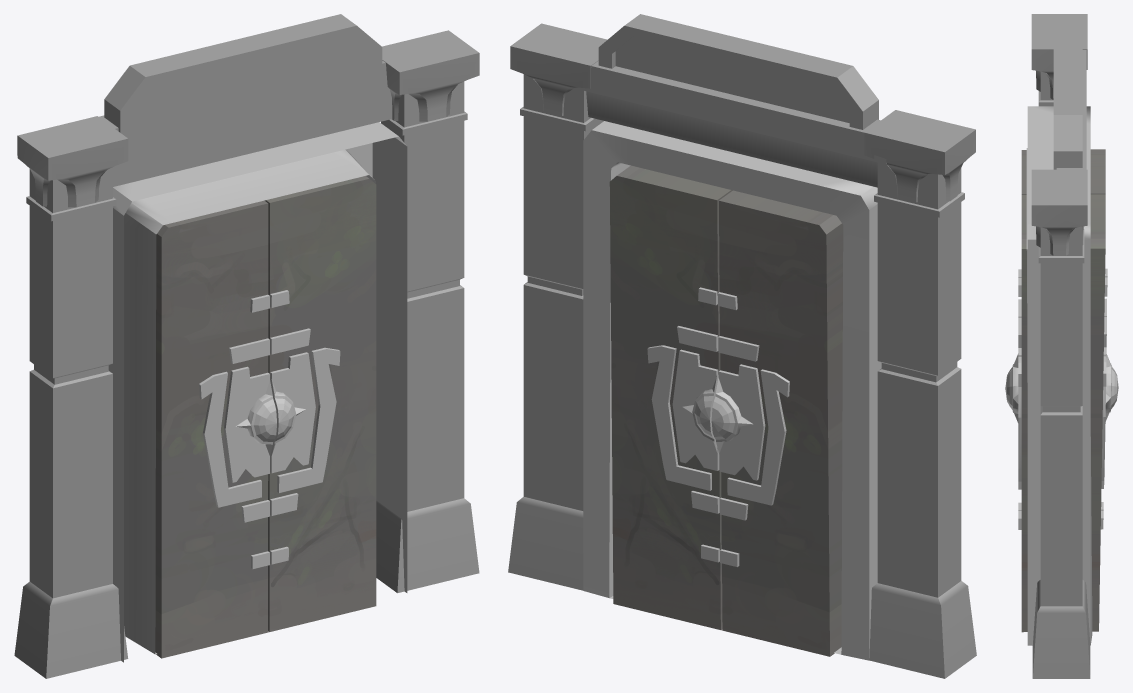
Rendered from G_DoorwayTemp_Door_01.fbx.
3 renders of one model, left to right at view 1: azimuth 30°, elevation 25°; view 2: azimuth 150°, elevation 25°; view 3: azimuth 270°, elevation 25°, orthographic. The views are drawn at different scales.
Parts seen in each view (by area): view 1: SM_DoorwayTemp_PillarOutside_01, SM_DoorwayTemp_Door_01, SM_DoorwayTemp_Frame_01; view 2: SM_DoorwayTemp_PillarOutside_01, SM_DoorwayTemp_Door_01, SM_DoorwayTemp_Frame_01; view 3: SM_DoorwayTemp_PillarOutside_01, SM_DoorwayTemp_Door_01, SM_DoorwayTemp_Frame_01.
Boxes of the visible parts, box(x1,y1,x2,y2) form: SM_DoorwayTemp_PillarOutside_01: box(14, 14, 479, 678); SM_DoorwayTemp_Door_01: box(155, 176, 376, 658); SM_DoorwayTemp_Frame_01: box(108, 122, 407, 662); SM_DoorwayTemp_PillarOutside_01: box(508, 14, 976, 678); SM_DoorwayTemp_Door_01: box(609, 165, 843, 656); SM_DoorwayTemp_Frame_01: box(583, 121, 881, 660); SM_DoorwayTemp_PillarOutside_01: box(1031, 14, 1090, 678); SM_DoorwayTemp_Door_01: box(1005, 149, 1118, 632); SM_DoorwayTemp_Frame_01: box(1026, 106, 1092, 645).
Bounding box in the file's own units: 3.6 × 4.52 × 0.8978.
